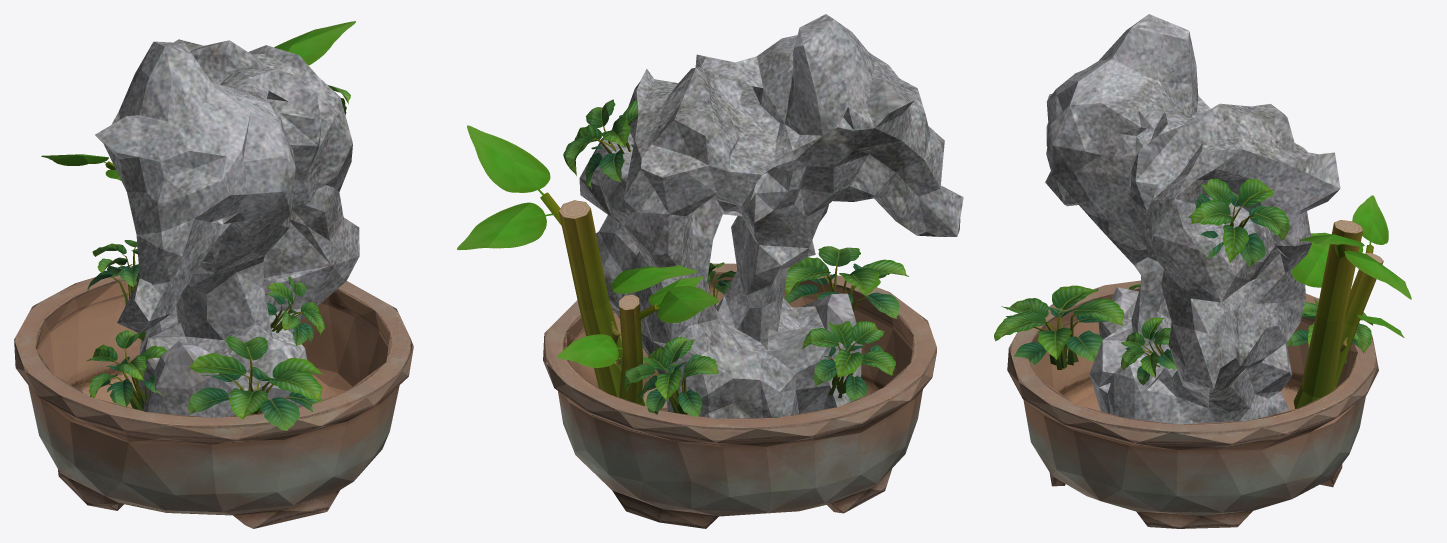
Rendered from P_Pot01.obj.
The picture shows the model from 3 angles, left to right: view 1: azimuth 30°, elevation 25°; view 2: azimuth 150°, elevation 25°; view 3: azimuth 270°, elevation 25°; orthographic projection. The views are drawn at different scales.
Bounding box in the file's own units: 0.7918 × 0.8882 × 0.8375.
Materials: 9 (9 with a texture image).
